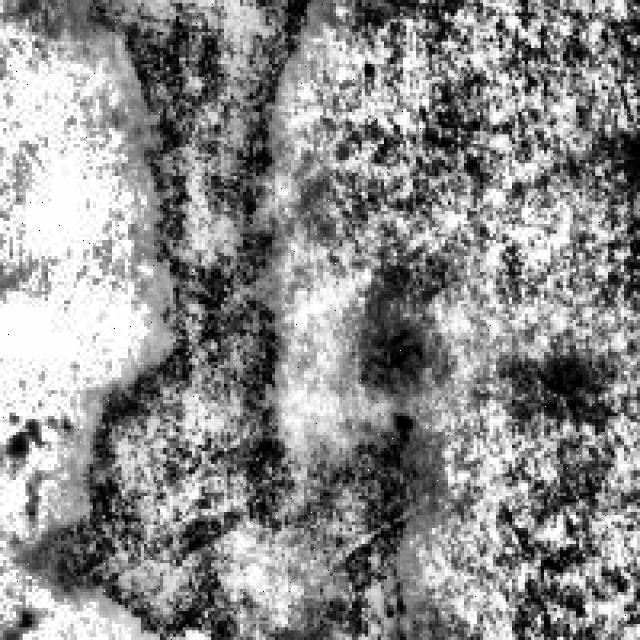Scratches: (64, 0, 326, 637), (291, 397, 448, 637), (336, 288, 451, 410)
